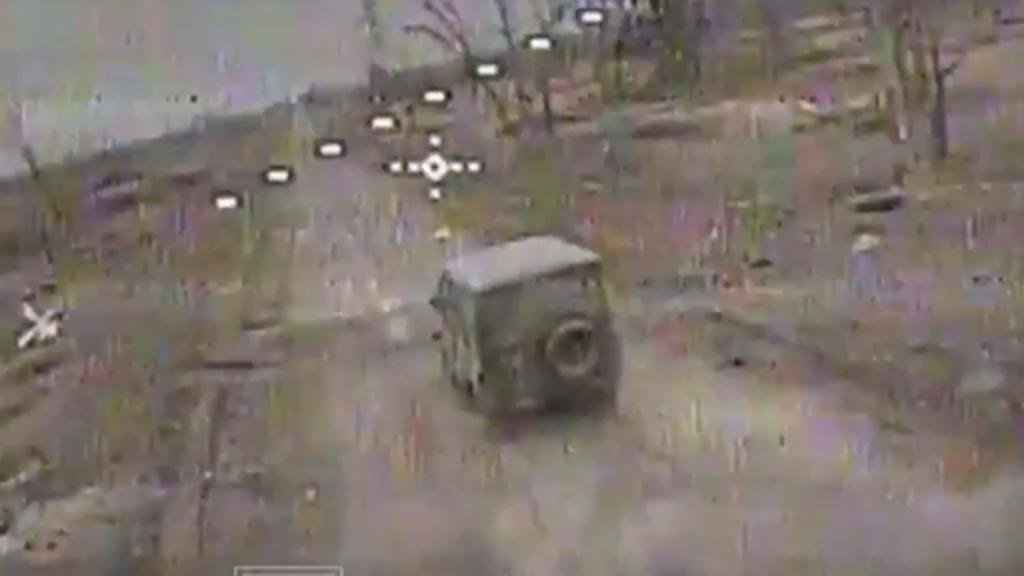CAR: (416, 236, 630, 428)
